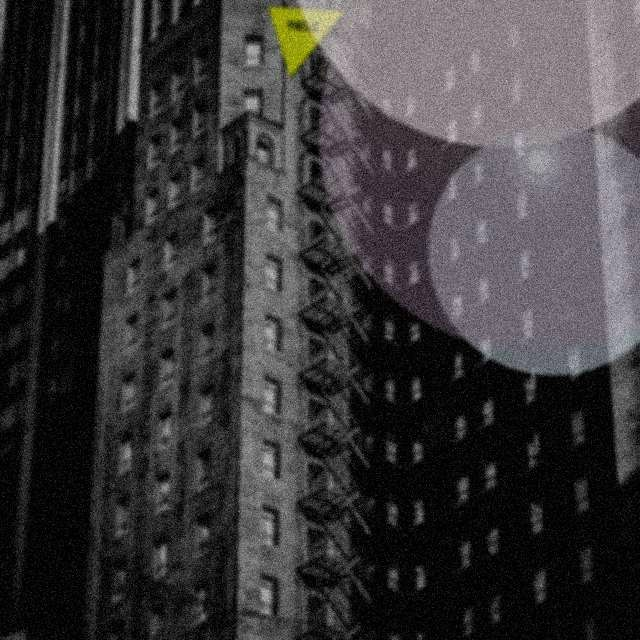YIELD: (267, 6, 346, 79)
